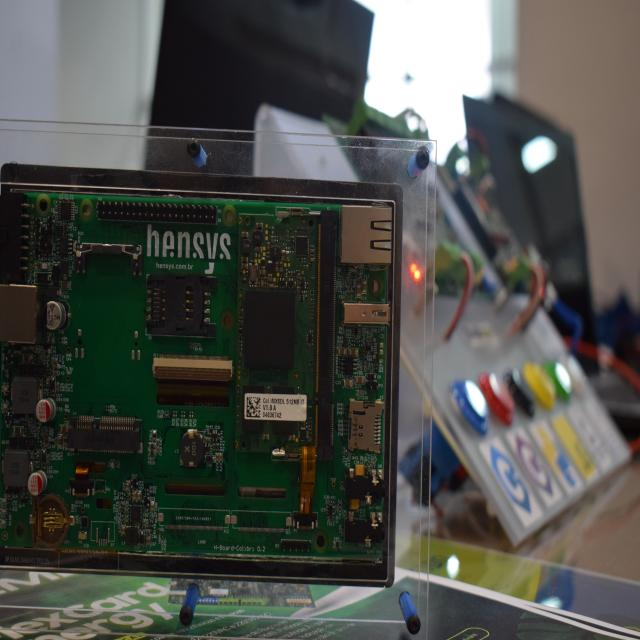som: (235, 209, 321, 460)
